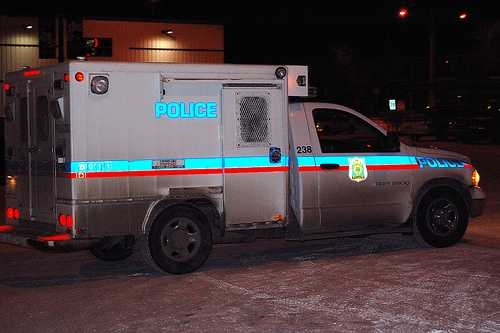Police Van: (10, 58, 500, 279)
